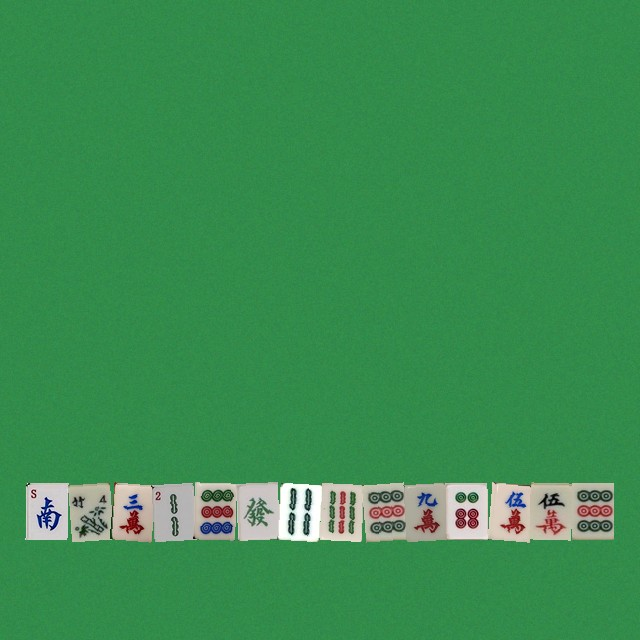tile: (25, 482, 67, 539), (67, 482, 109, 539), (109, 482, 151, 539), (151, 482, 193, 539), (193, 482, 235, 539), (235, 482, 277, 539), (277, 482, 319, 539), (319, 482, 361, 539), (361, 482, 403, 539), (403, 482, 445, 539), (445, 482, 487, 539), (487, 482, 529, 539), (529, 482, 571, 539), (571, 482, 613, 539)
